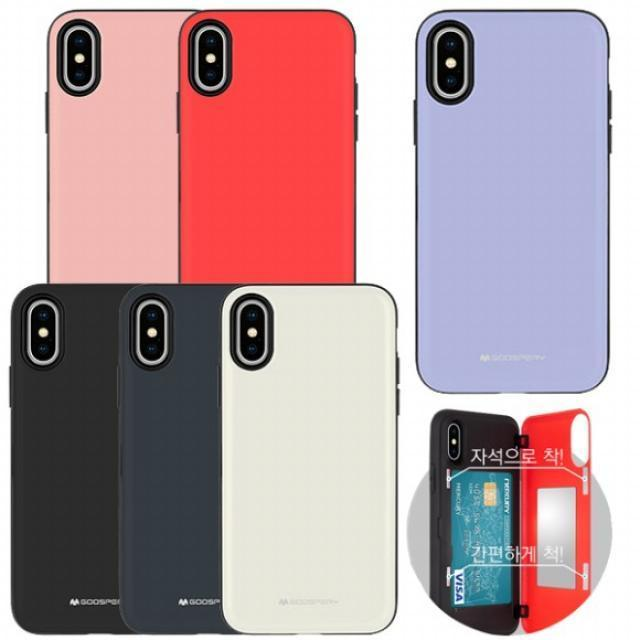phone: (412, 7, 614, 394), (222, 282, 402, 636)
